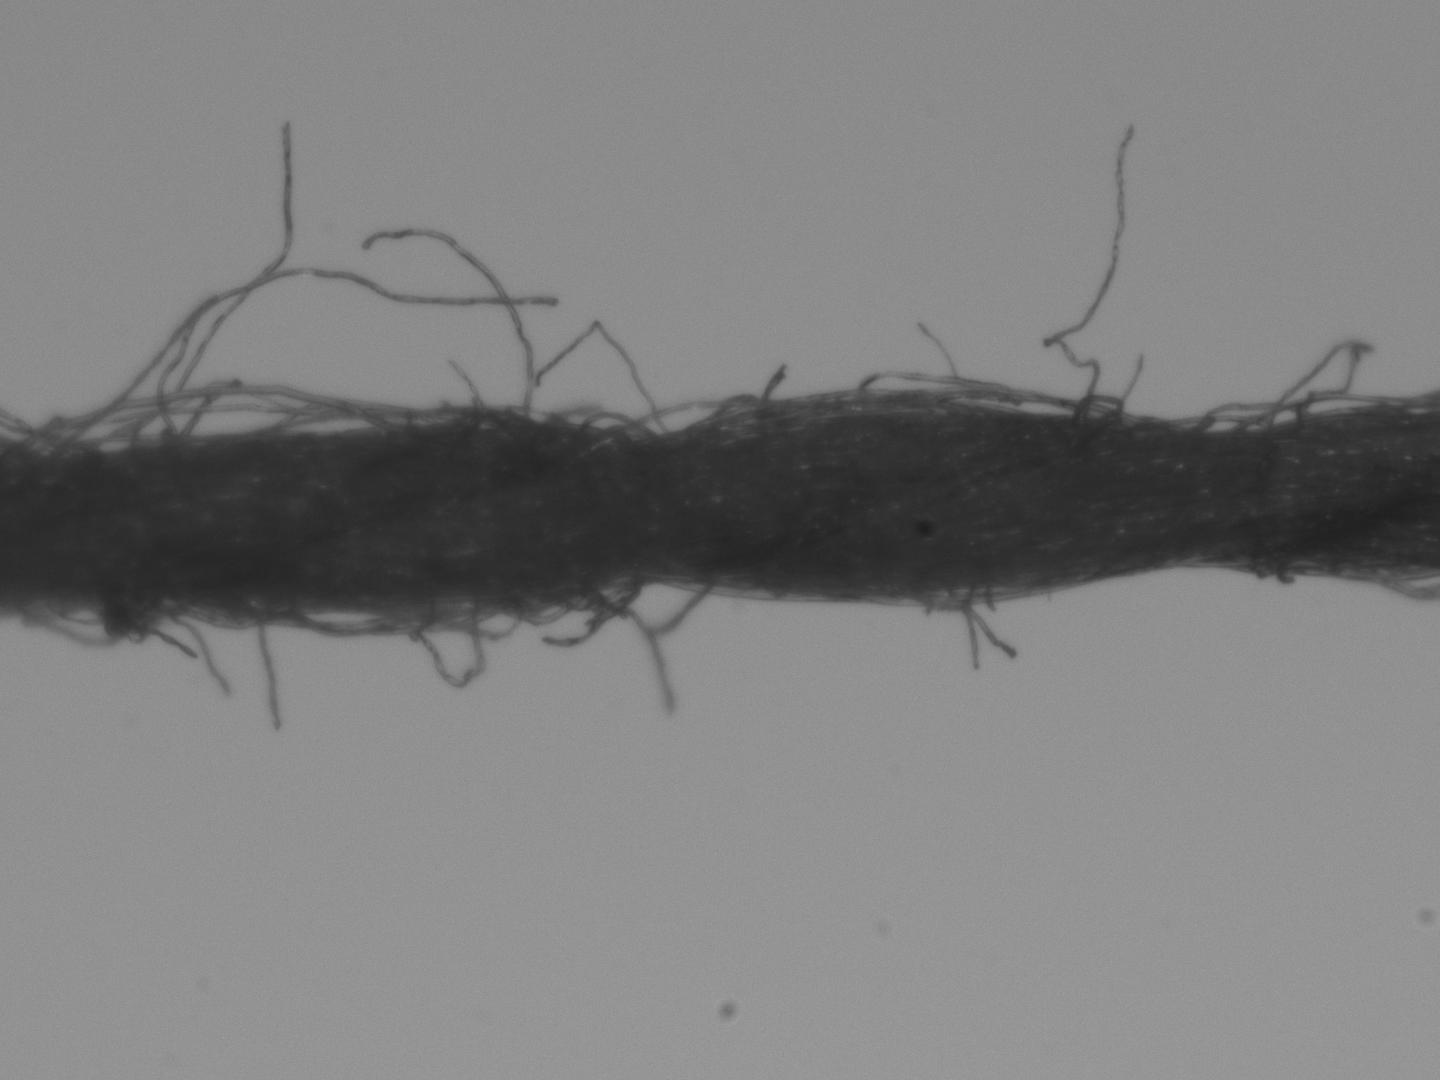loop_fiber: (22, 387, 398, 442), (932, 379, 1126, 420), (400, 597, 488, 684), (1238, 394, 1382, 434), (280, 600, 429, 639), (18, 598, 145, 641), (630, 396, 764, 434), (169, 597, 274, 628), (506, 593, 585, 627), (910, 584, 988, 615), (1162, 413, 1271, 430), (576, 411, 644, 438)
protruding_fiber: (128, 118, 298, 454), (354, 227, 542, 424), (1047, 125, 1136, 420), (585, 587, 670, 718), (169, 611, 227, 690), (967, 590, 1025, 663), (252, 614, 278, 724)
